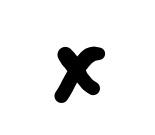mult: (55, 47, 104, 102)
